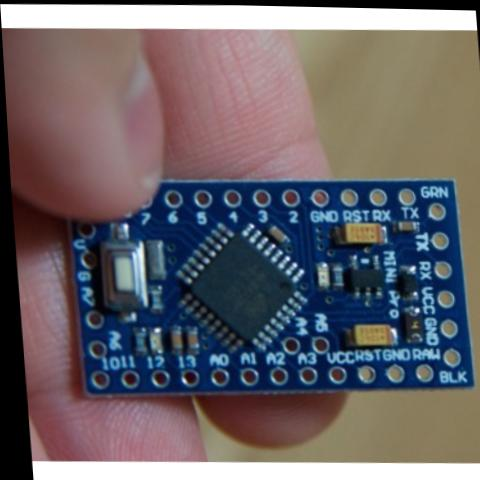Arduino-Pro-Mini: (34, 138, 480, 430)
